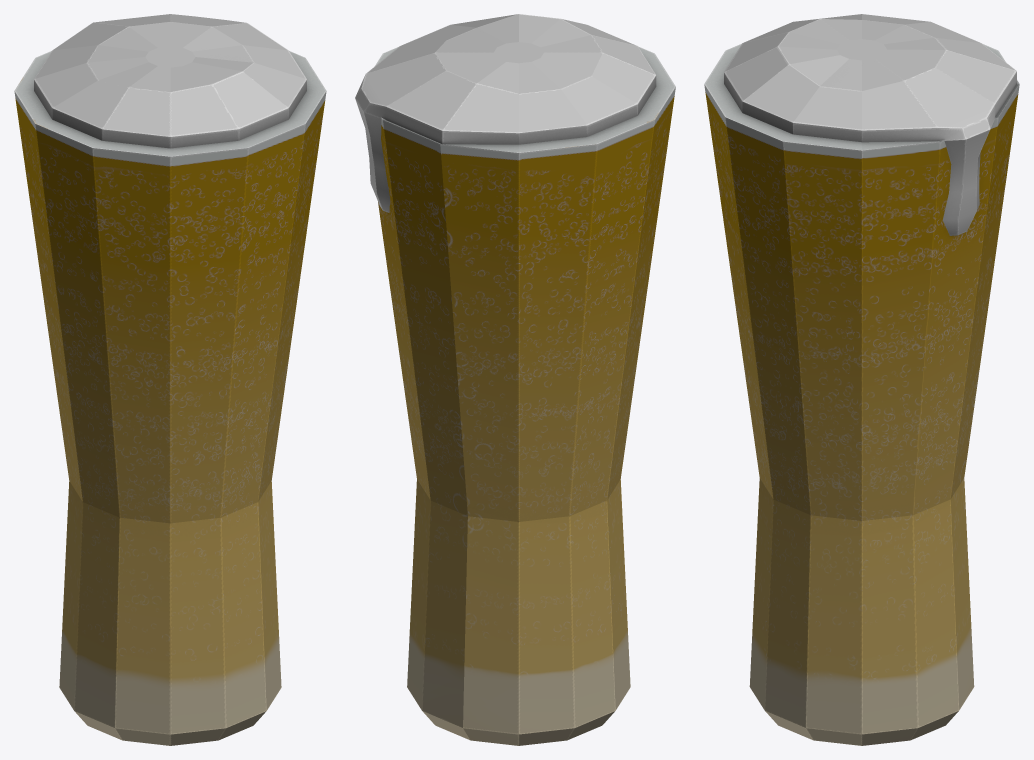
Rendered from 7e5c7c58-f8f6-4b91-8aae-7baa95c872f7.glb.
3 views of the same model, side by side, from view 1: azimuth 30°, elevation 25°; view 2: azimuth 150°, elevation 25°; view 3: azimuth 270°, elevation 25° (orthographic).
Parts seen in each view (by area): view 1: GlassOfBeer_mesh; view 2: GlassOfBeer_mesh; view 3: GlassOfBeer_mesh.
Part boxes in pixels (x1=…): GlassOfBeer_mesh: x1=14, y1=14, x2=326, y2=745; GlassOfBeer_mesh: x1=355, y1=14, x2=675, y2=745; GlassOfBeer_mesh: x1=704, y1=14, x2=1019, y2=745.
Size of the model in its own units: 2.58 by 5.93 by 2.58.
Materials: 1 (1 with a texture image).
